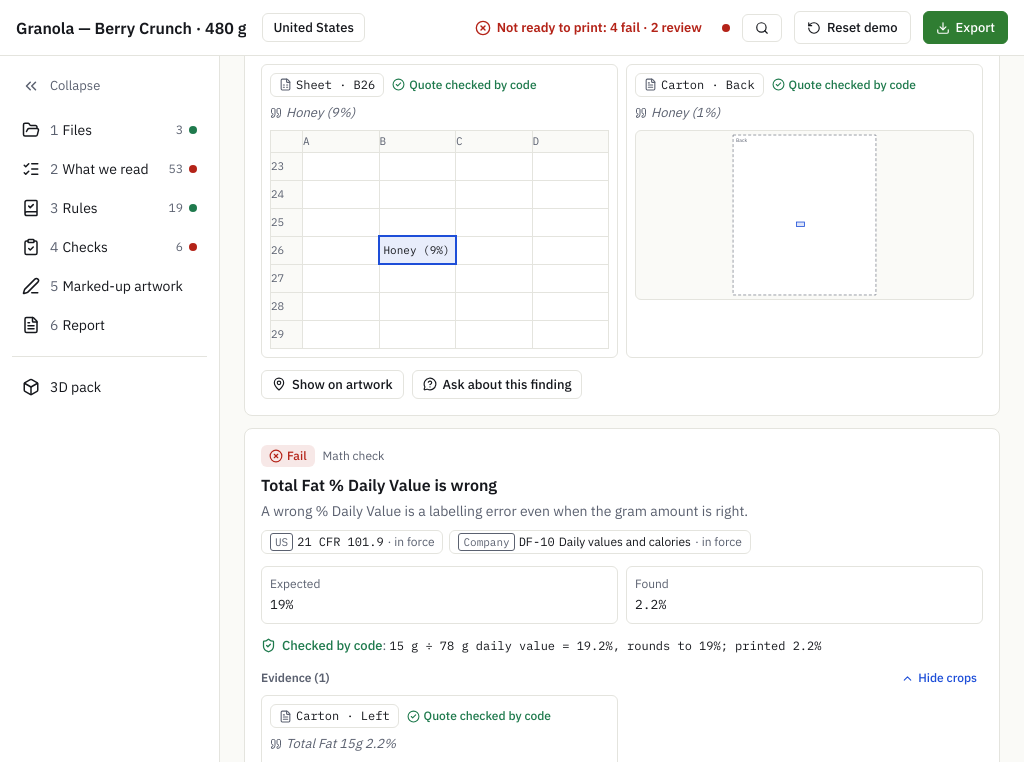
Test: Ask when the AI is busy › about a finding, Retry keeps the findingId
The image size is (1024, 762).
(page scrolled)
Step 1. Click the button with aria-label "Ask about this finding: Honey percentage" → (497, 384), box [412,370,582,399]
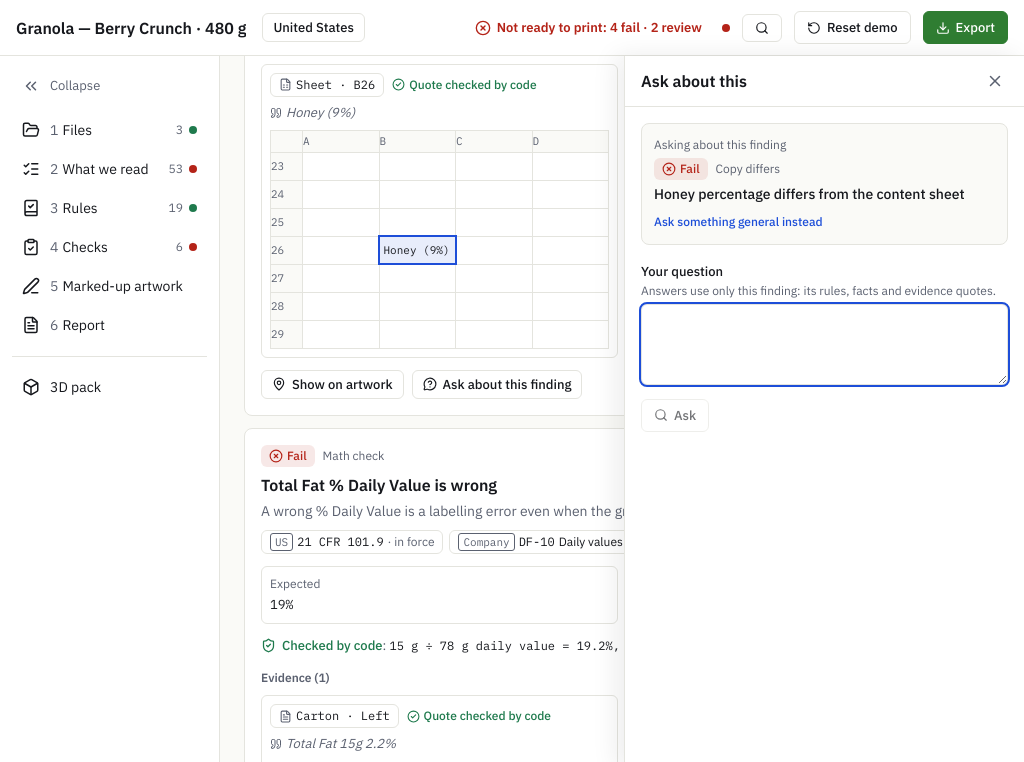
Step 2. Type "Why is this a fail?" into the text box labelled "Your question" → (824, 344), box [641,304,1008,384]
Then press Enter
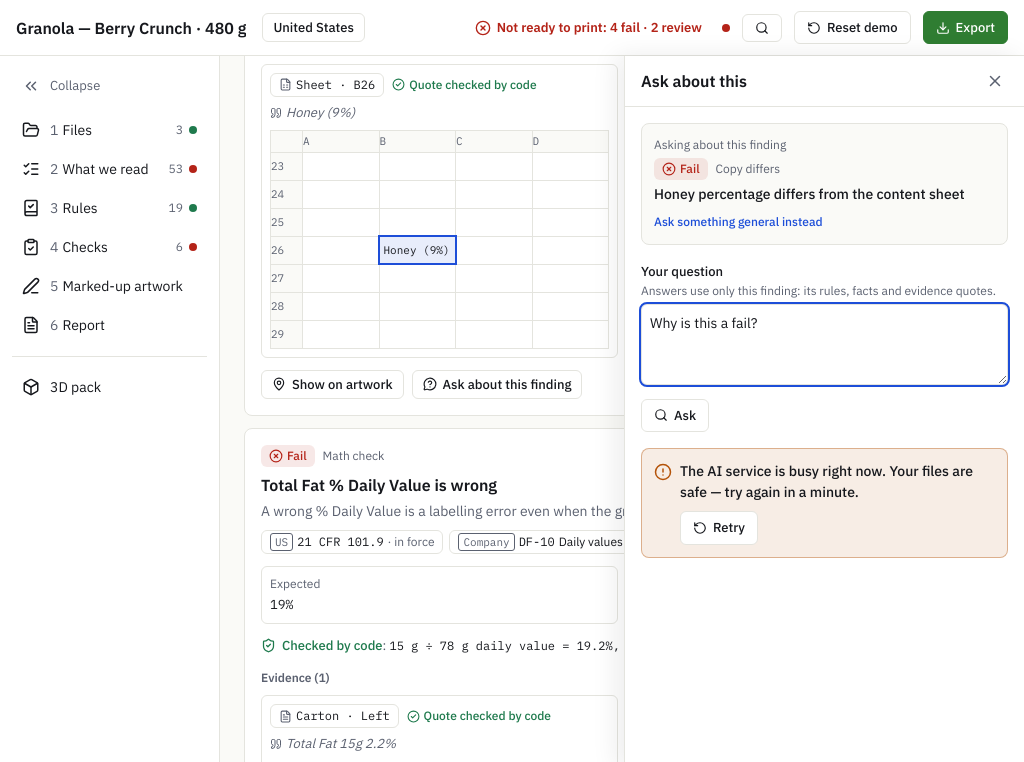
Result: the 2nd message shows "The AI service is busy right now. Your files are safe" at [680,462,973,501]
Step 3. Click the button "Retry" → (719, 528), box [680,511,758,544]
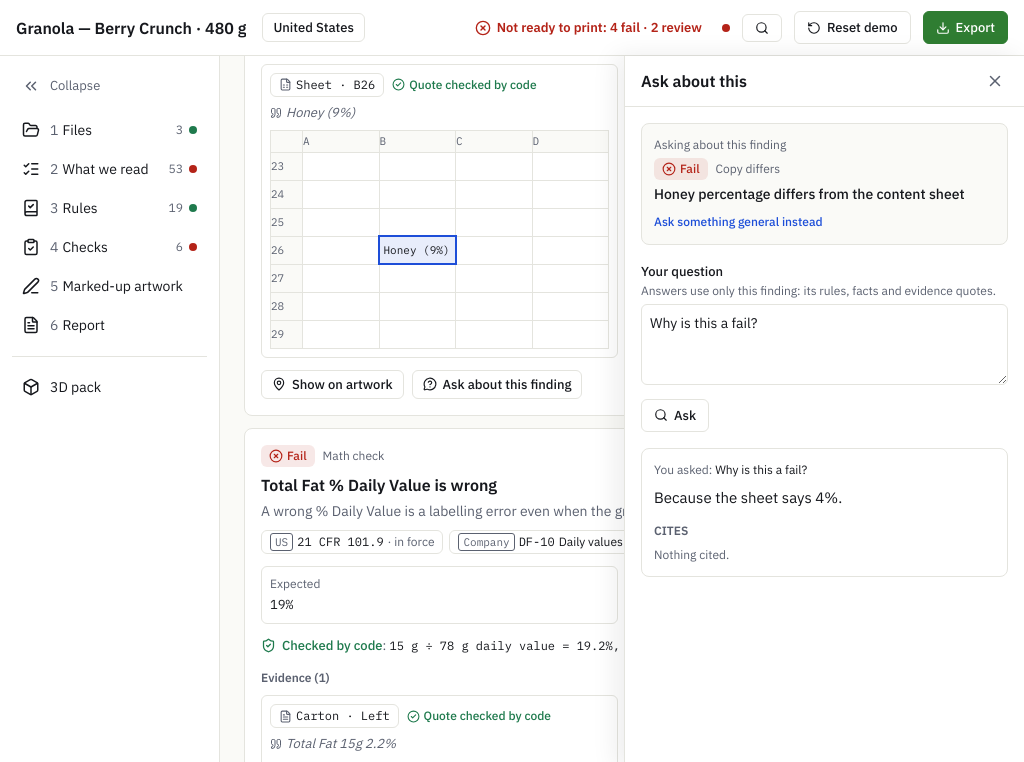
Result: the element named "Answer" is shown at [641,448,1008,576]
